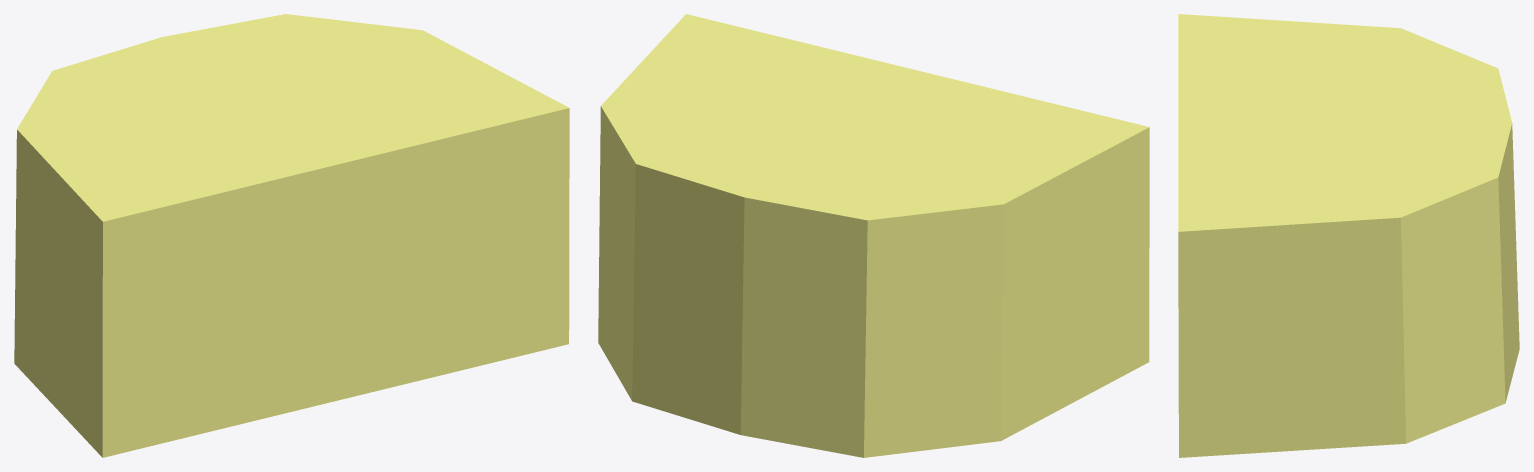
The model's file is banana_slice_2.glb.
3 views of the same model, side by side, from view 1: azimuth 30°, elevation 25°; view 2: azimuth 150°, elevation 25°; view 3: azimuth 270°, elevation 25° (orthographic). The views are drawn at different scales.
Visible parts, largest first — view 1: Banana.003; view 2: Banana.003; view 3: Banana.003.
Boxes of the visible parts, left/top/right/bottom form: Banana.003: left=14, top=14, right=569, bottom=457; Banana.003: left=598, top=14, right=1149, bottom=457; Banana.003: left=1178, top=14, right=1519, bottom=457.
Size of the model in its own units: 1.92 by 0.9277 by 1.27.
